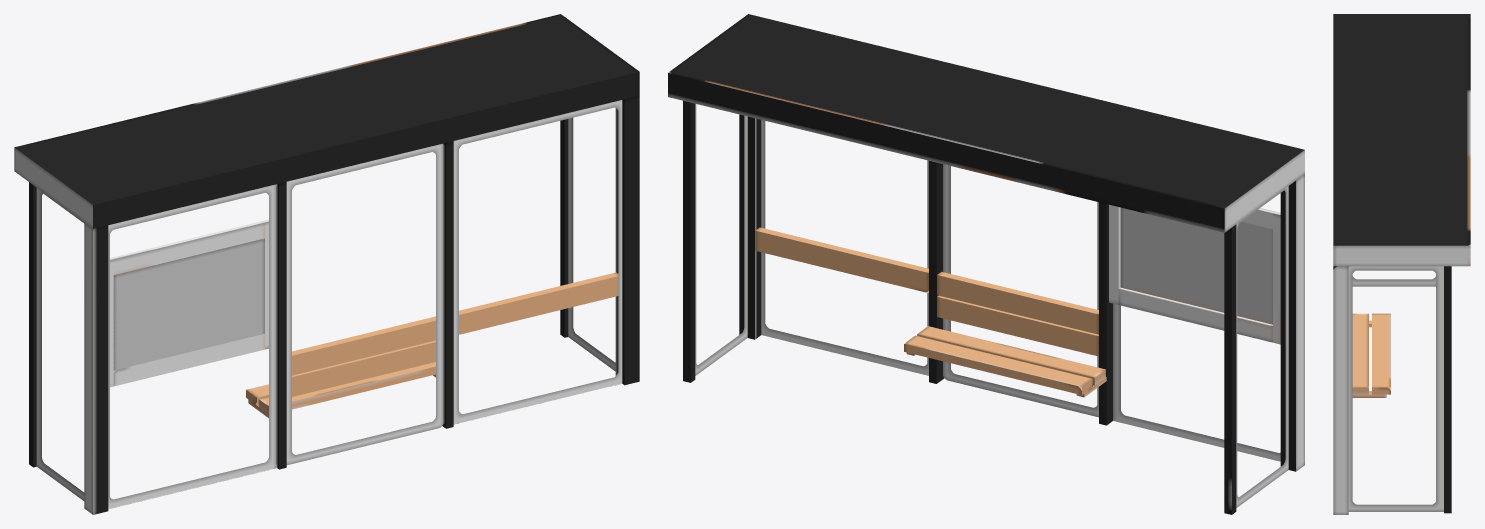
Rendered from nl_bus_shelter_utrecht.obj.
3 renders of one model, left to right at view 1: azimuth 30°, elevation 25°; view 2: azimuth 150°, elevation 25°; view 3: azimuth 270°, elevation 25°, orthographic. The views are drawn at different scales.
Visible parts, largest first — view 1: roof, a, 4, g3, 1, g4, g2, l, tt, tb, 2, 3 (+7 smaller); view 2: roof, a, 4, l, 1, tt, 4f, tb, 1f, bf, g2, g3 (+8 smaller); view 3: roof, g1, 1, 1f, bf, bb, g5.
Boxes of the visible parts, x1,y1,x2,y2 form: roof: (14, 14, 639, 228); a: (113, 238, 264, 370); 4: (84, 223, 108, 514); g3: (286, 143, 444, 465); 1: (615, 95, 639, 385); g4: (108, 184, 277, 509); g2: (453, 100, 622, 424); l: (263, 219, 618, 349); tt: (292, 316, 435, 375); tb: (292, 340, 435, 396); 2: (442, 141, 453, 428); 3: (276, 182, 286, 469); roof: (668, 14, 1304, 232); a: (1120, 207, 1272, 324); 4: (1280, 174, 1304, 471); l: (755, 204, 1120, 304); 1: (739, 114, 761, 339); tt: (937, 271, 1098, 334); 4f: (1224, 224, 1236, 514); tb: (937, 295, 1098, 356); 1f: (683, 101, 695, 382); bf: (904, 335, 1092, 394); g2: (761, 120, 928, 375); g3: (943, 164, 1098, 417); roof: (1333, 14, 1470, 266); g1: (1348, 266, 1443, 511); 1: (1333, 266, 1348, 514); 1f: (1444, 266, 1451, 513); bf: (1372, 313, 1390, 394); bb: (1352, 313, 1368, 394); g5: (1352, 276, 1435, 286).
Size of the model in its own units: 4.5 by 2.44 by 1.12.
Materials: 1 (1 with a texture image).
